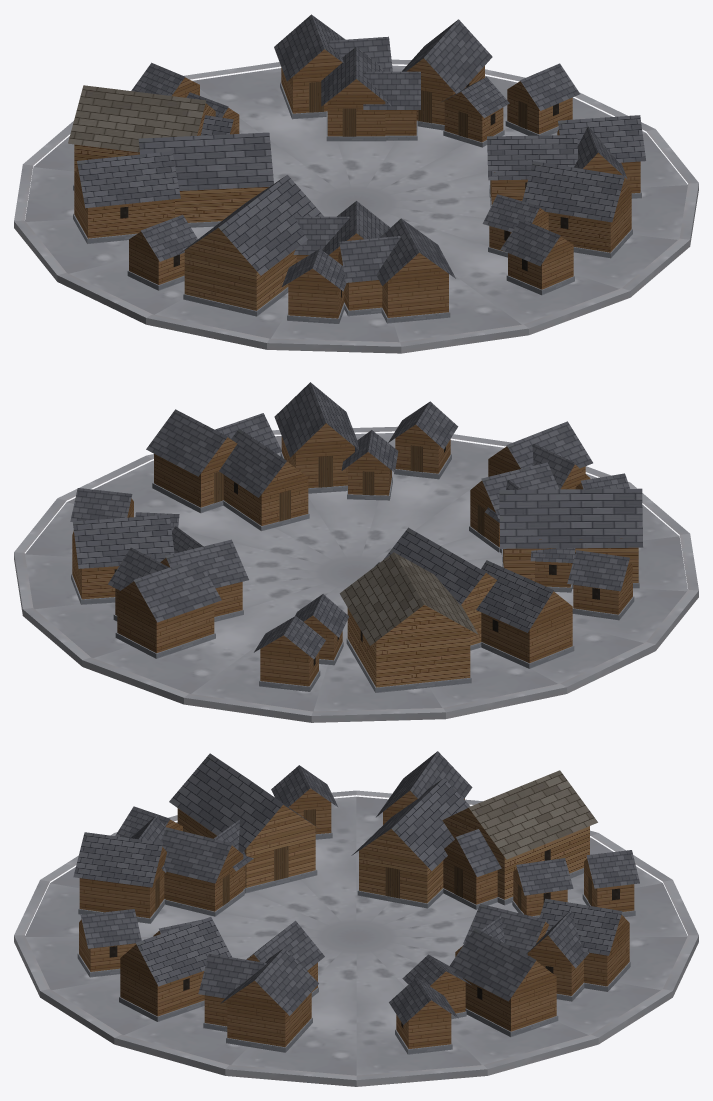
The model's file is ae_snow_village_small_lod2.glb.
3 renders of one model, top to bottom at view 1: azimuth 30°, elevation 25°; view 2: azimuth 150°, elevation 25°; view 3: azimuth 270°, elevation 25°, orthographic.
Visible parts, largest first — view 1: ae_snow_village_small_lod2; view 2: ae_snow_village_small_lod2; view 3: ae_snow_village_small_lod2.
Boxes of the visible parts, x1=… form: ae_snow_village_small_lod2: x1=14, y1=14, x2=698, y2=353; ae_snow_village_small_lod2: x1=14, y1=382, x2=698, y2=722; ae_snow_village_small_lod2: x1=14, y1=751, x2=698, y2=1086.
Size of the model in its own units: 1.9 by 0.2738 by 1.9.
1 material, 1 textured.
